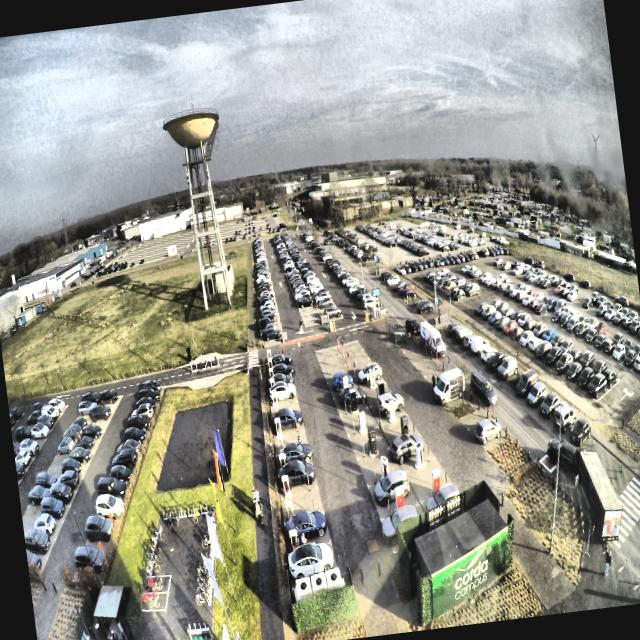cabinet: (295, 567, 341, 594)
car: (287, 542, 335, 582), (283, 505, 325, 549), (278, 461, 316, 488), (270, 406, 304, 436), (278, 441, 314, 468), (269, 381, 296, 403), (266, 372, 294, 386), (269, 352, 293, 368), (268, 363, 295, 377)
parking: (288, 541, 338, 589), (284, 512, 330, 555), (281, 487, 324, 523), (278, 465, 318, 497), (276, 446, 312, 476), (273, 429, 308, 455), (272, 414, 304, 438), (269, 385, 297, 408), (271, 401, 300, 421), (267, 374, 293, 394), (265, 356, 290, 371), (266, 365, 291, 379)
supercharger: (288, 529, 300, 554), (285, 500, 295, 523), (282, 474, 290, 491), (278, 453, 286, 470), (276, 435, 284, 452), (275, 419, 282, 436), (271, 390, 278, 404), (273, 404, 279, 418), (269, 378, 275, 390), (266, 349, 272, 359), (267, 359, 273, 369), (268, 367, 273, 377)
